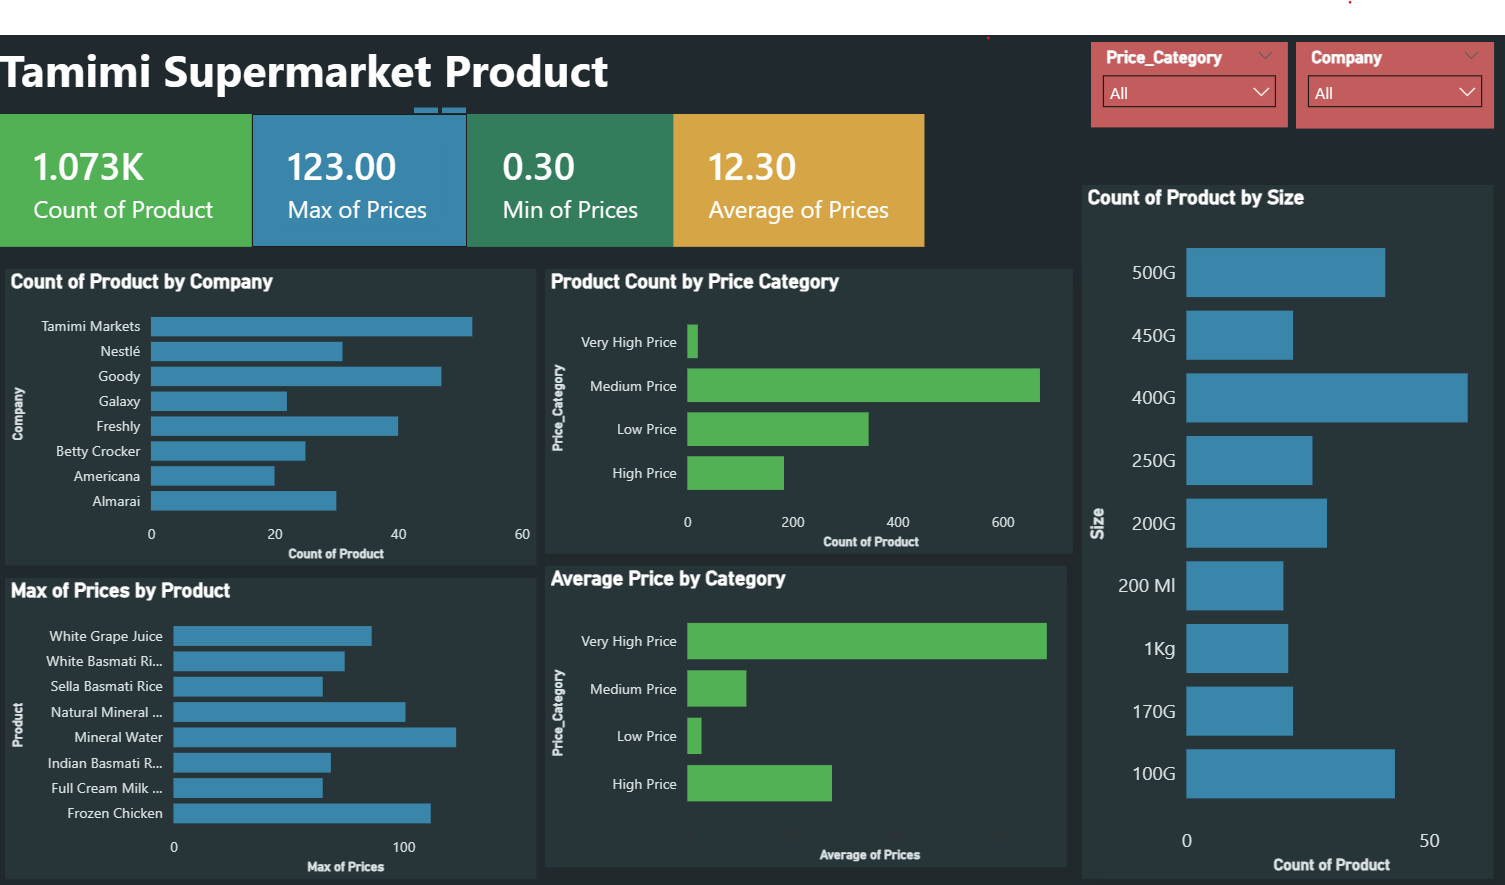

Layout of this report page (visuals, bound fields, positions):
{"tool":"powerbi","page":{"name":"Page 1","canvas":[1280,720],"ordinal":0},"visuals":[{"type":"cardVisual","fields":{"Data":["Count(clean_tamimi_data.Product)"]},"box":[0,56.1,253.6,126.8],"z":0},{"type":"cardVisual","fields":{"Data":["Avg(clean_tamimi_data.Prices)"]},"box":[681.4,63,232.9,119.9],"z":1000},{"type":"cardVisual","fields":{"Data":["Max(clean_tamimi_data.Prices)"]},"box":[253.6,63,219.1,119.9],"z":2000},{"type":"cardVisual","fields":{"Data":["Min(clean_tamimi_data.Prices)"]},"box":[472.7,62.1,208.7,120.8],"z":3000},{"type":"clusteredBarChart","fields":{"Category":["clean_tamimi_data.Company"],"Y":["CountNonNull(clean_tamimi_data.Product)"]},"box":[0,182.9,508,260.5],"z":4000},{"type":"clusteredBarChart","title":"Product Count by Price Category","fields":{"Category":["clean_tamimi_data.Price_Category"],"Y":["CountNonNull(clean_tamimi_data.Product)"]},"box":[512.3,189.8,491.6,263.1],"z":5000},{"type":"clusteredBarChart","title":"Average Price by Category","fields":{"Category":["clean_tamimi_data.Price_Category"],"Y":["Avg(clean_tamimi_data.Prices)"]},"box":[517.5,476.1,491.6,244.1],"z":6000},{"type":"clusteredBarChart","fields":{"Y":["Max(clean_tamimi_data.Prices)"],"Category":["clean_tamimi_data.Product"]},"box":[0,458.8,508.7,261.2],"z":7000},{"type":"clusteredBarChart","fields":{"Category":["clean_tamimi_data.Size"],"Y":["CountNonNull(clean_tamimi_data.Product)"]},"box":[1018.7,295,261.3,256.2],"z":8000},{"type":"slicer","fields":{"Values":["clean_tamimi_data.Price_Category"]},"box":[920.3,6,166.9,168.9],"z":9000},{"type":"slicer","fields":{"Values":["clean_tamimi_data.Company"]},"box":[1098.9,6,166.5,72.5],"z":10000},{"type":"textbox","box":[0,0,749.5,70.7],"z":11000}]}

Visuals, with their boxes on the page's 1280x720 design canvas (x1, y1, x2, y2). These are canvas units, not pixel positions in the 1505x885 screenshot, which may show the page scaled, cropped or inside an application window:
cardVisual - Count(clean_tamimi_data.Product): l=0, t=56, r=254, b=183
cardVisual - Avg(clean_tamimi_data.Prices): l=681, t=63, r=914, b=183
cardVisual - Max(clean_tamimi_data.Prices): l=254, t=63, r=473, b=183
cardVisual - Min(clean_tamimi_data.Prices): l=473, t=62, r=681, b=183
clusteredBarChart - clean_tamimi_data.Company x CountNonNull(clean_tamimi_data.Product): l=0, t=183, r=508, b=443
"Product Count by Price Category" clusteredBarChart: l=512, t=190, r=1004, b=453
"Average Price by Category" clusteredBarChart: l=518, t=476, r=1009, b=720
clusteredBarChart - Max(clean_tamimi_data.Prices) x clean_tamimi_data.Product: l=0, t=459, r=509, b=720
clusteredBarChart - clean_tamimi_data.Size x CountNonNull(clean_tamimi_data.Product): l=1019, t=295, r=1280, b=551
slicer - clean_tamimi_data.Price_Category: l=920, t=6, r=1087, b=175
slicer - clean_tamimi_data.Company: l=1099, t=6, r=1265, b=78
textbox: l=0, t=0, r=750, b=71
